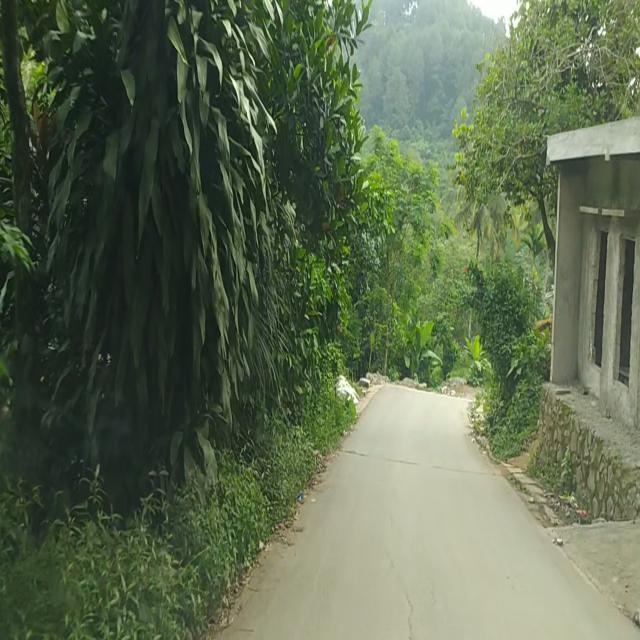Sewer Cover: (338, 444, 494, 473)
